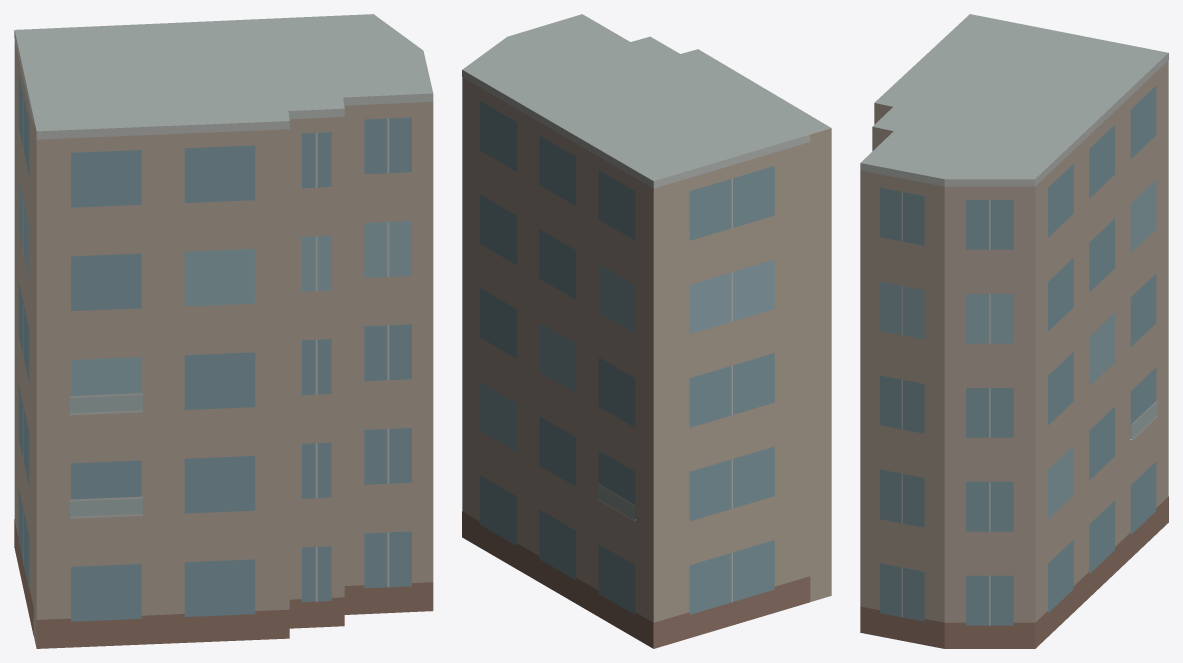
The model's file is survey-upis-33034246.glb.
3 renders of one model, left to right at view 1: azimuth 30°, elevation 25°; view 2: azimuth 150°, elevation 25°; view 3: azimuth 270°, elevation 25°, orthographic. The views are drawn at different scales.
Parts seen in each view (by area): view 1: survey-upis-33034246.tmp; view 2: survey-upis-33034246.tmp; view 3: survey-upis-33034246.tmp.
Boxes of the visible parts, <box> form: survey-upis-33034246.tmp: <box>14,14,433,648</box>; survey-upis-33034246.tmp: <box>462,14,831,648</box>; survey-upis-33034246.tmp: <box>860,14,1168,648</box>.
Bounding box in the file's own units: 11.63 × 15.4 × 9.17.
